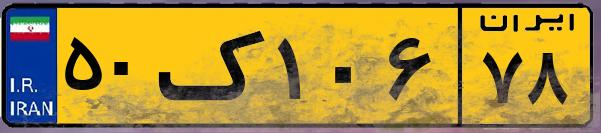0: (330, 28, 385, 110), (110, 28, 158, 98)
1: (270, 28, 330, 110)
5: (57, 26, 110, 100)
6: (385, 28, 445, 110)
7: (475, 38, 525, 113)
8: (525, 38, 570, 115)
ک: (158, 12, 270, 120)
